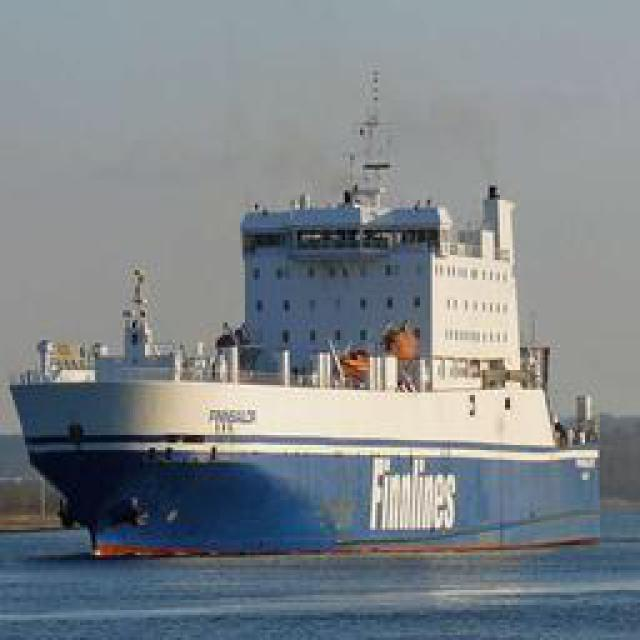Ship: (9, 58, 602, 567)
